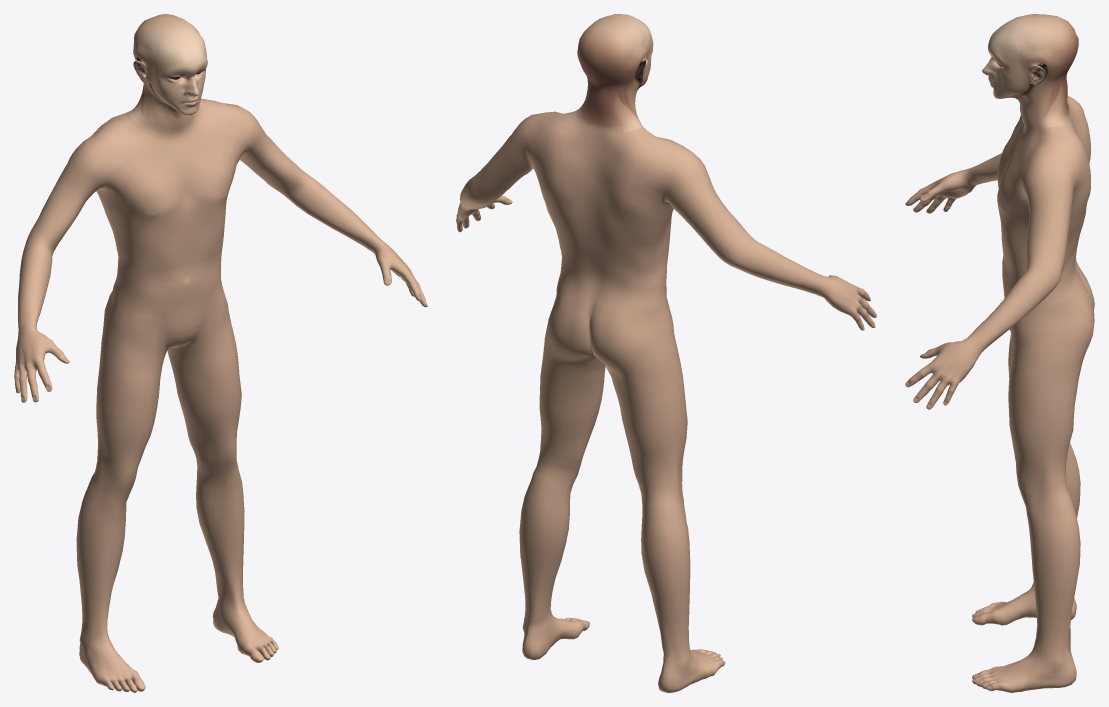
File: head_base_v1.1_tex.glb
The picture shows the model from 3 angles, left to right: view 1: azimuth 30°, elevation 25°; view 2: azimuth 150°, elevation 25°; view 3: azimuth 270°, elevation 25°; orthographic projection.
Visible parts, largest first — view 1: body; view 2: body; view 3: body.
Boxes of the visible parts, bbox=[...] form: body: bbox=[14, 14, 427, 692]; body: bbox=[456, 14, 876, 692]; body: bbox=[905, 14, 1094, 692].
Size of the model in its own units: 1.11 by 1.67 by 0.4497.
3 materials, 3 textured.
